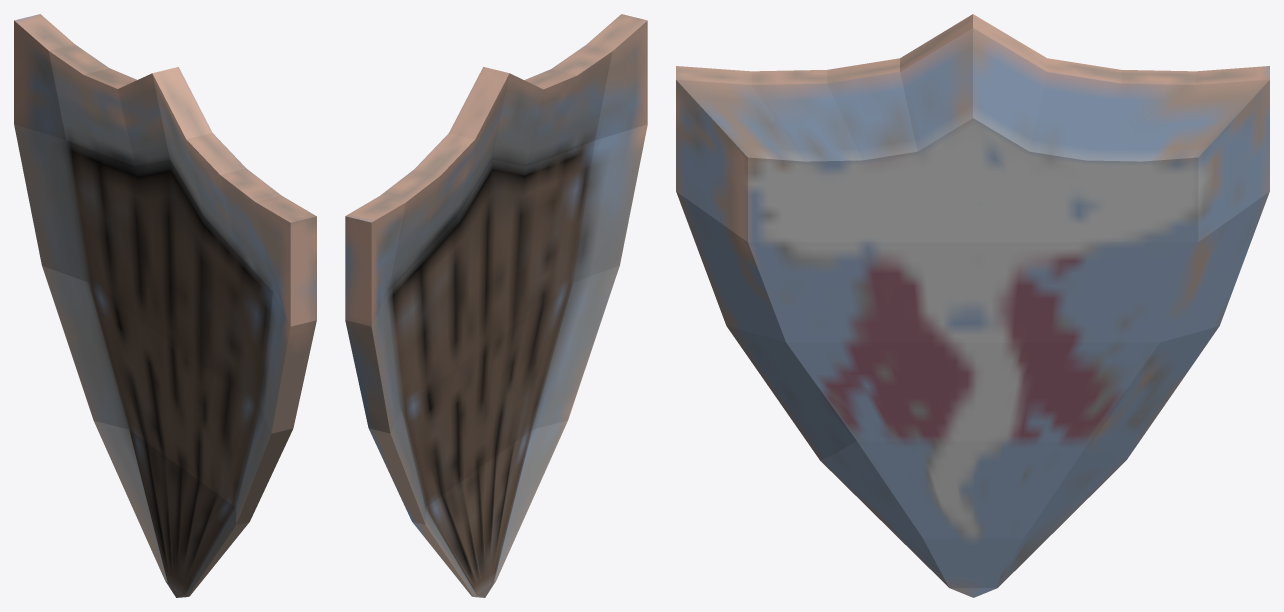
File: heaterShield.fbx
3 views of the same model, side by side, from view 1: azimuth 30°, elevation 25°; view 2: azimuth 150°, elevation 25°; view 3: azimuth 270°, elevation 25° (orthographic). The views are drawn at different scales.
Visible parts, largest first — view 1: Cube; view 2: Cube; view 3: Cube.
Part boxes in pixels (<box>): Cube: <box>14,14,316,597</box>; Cube: <box>345,14,647,597</box>; Cube: <box>676,14,1269,597</box>.
Size of the model in its own units: 21.13 by 212 by 200.
